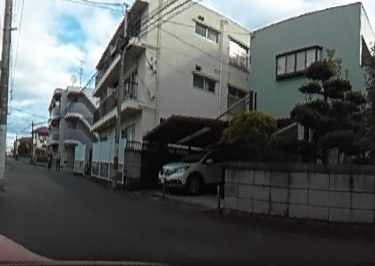person: (54, 149, 62, 173), (45, 149, 53, 172)
